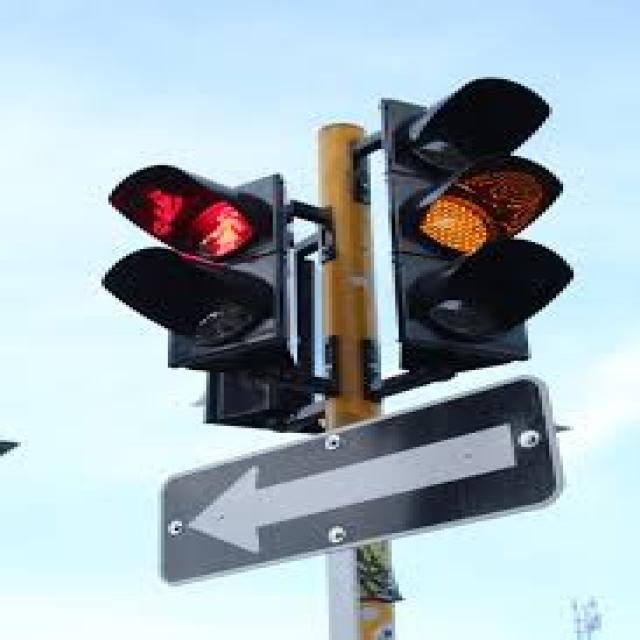red: (167, 187, 282, 256)
